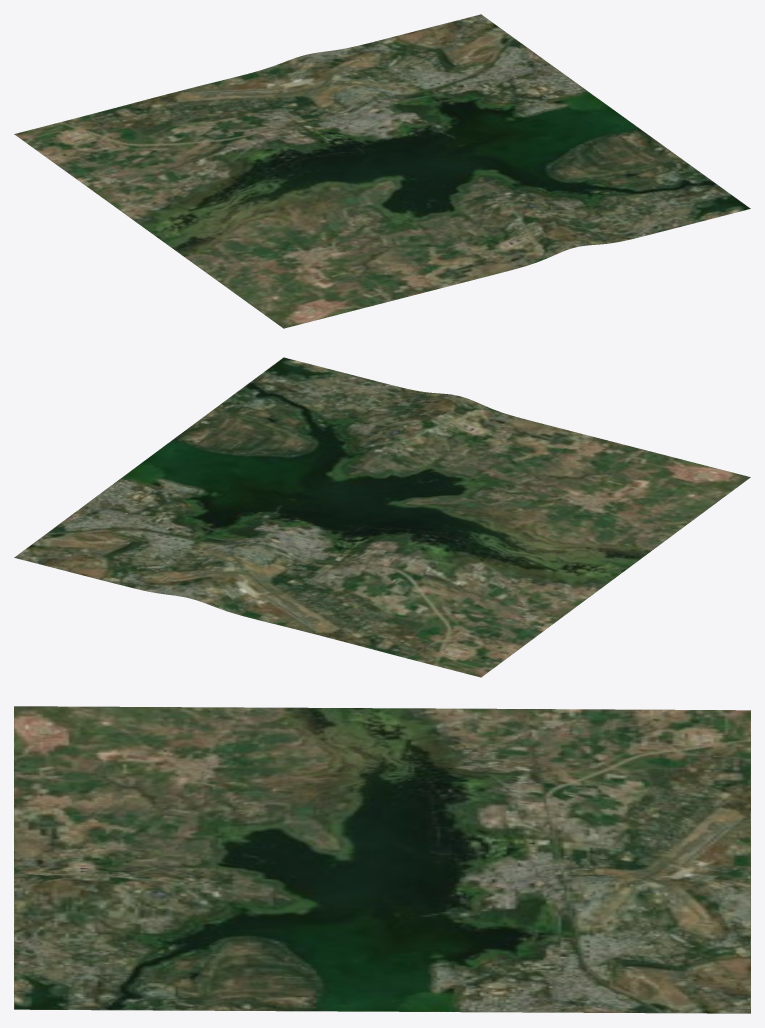
3 renders of one model, top to bottom at view 1: azimuth 30°, elevation 25°; view 2: azimuth 150°, elevation 25°; view 3: azimuth 270°, elevation 25°, orthographic. The views are drawn at different scales.
Parts seen in each view (by area): view 1: geometry_0; view 2: geometry_0; view 3: geometry_0.
Part boxes in pixels (left/top/right/bottom): geometry_0: left=14, top=14, right=750, bottom=328; geometry_0: left=14, top=357, right=750, bottom=677; geometry_0: left=14, top=706, right=750, bottom=1013.
Bounding box in the file's own units: 10000 × 386 × 10000.
Materials: 1 (1 with a texture image).
